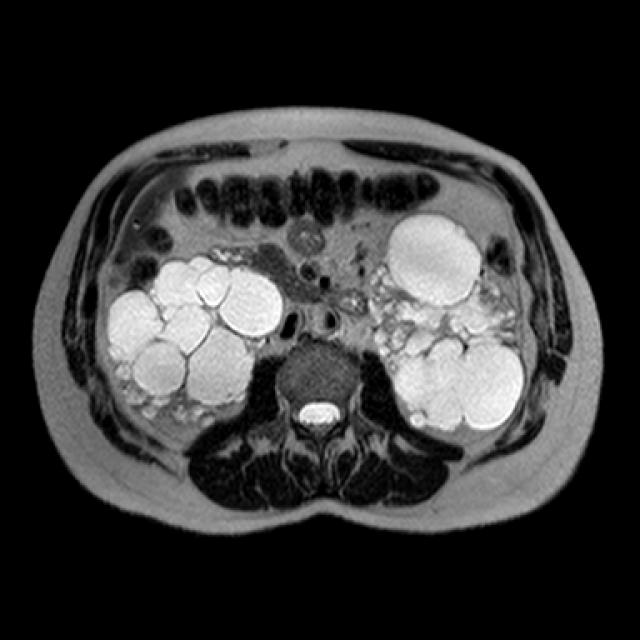sag: (104, 256, 285, 439)
sol: (365, 209, 527, 427)
